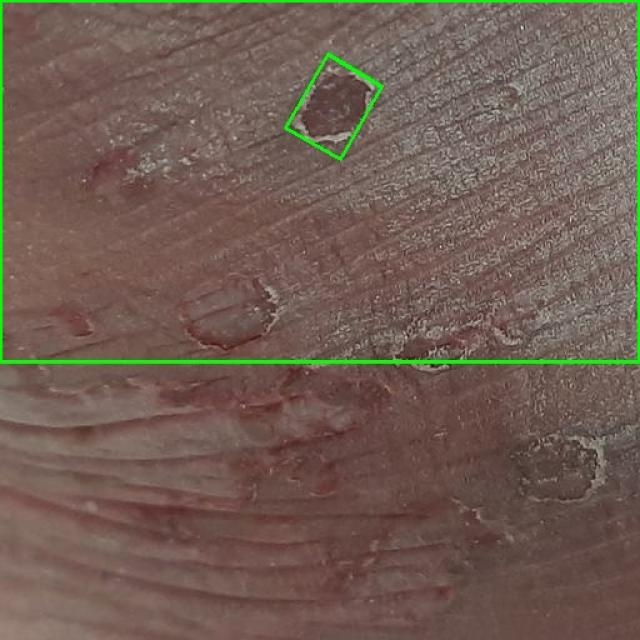Contact Dermatitis: (0, 0, 639, 362), (285, 55, 382, 160)
